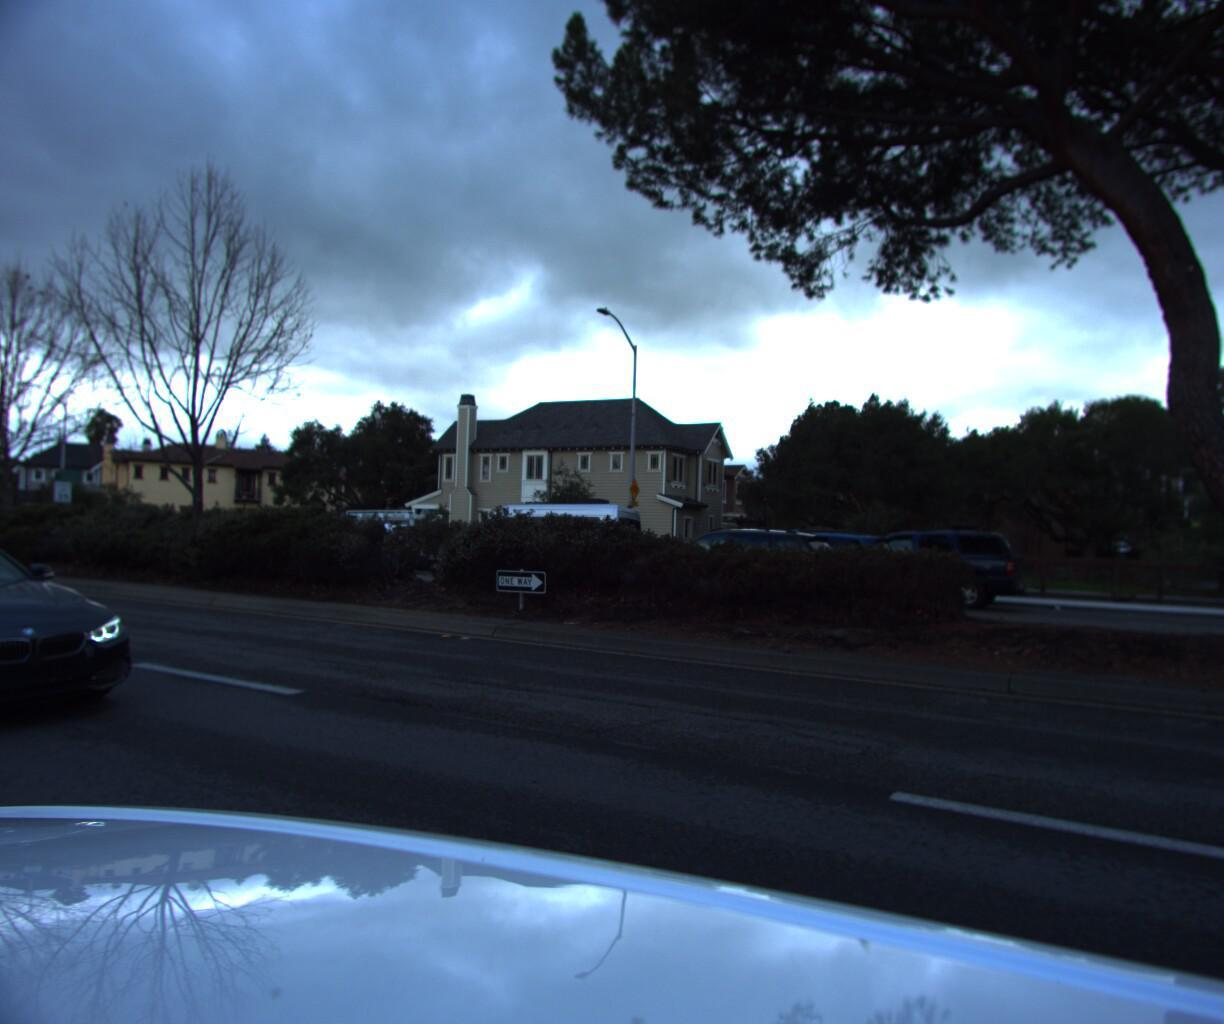car: (0, 523, 160, 775), (603, 516, 848, 614), (832, 520, 1048, 613), (435, 497, 649, 589), (676, 532, 897, 610), (304, 508, 449, 575)
